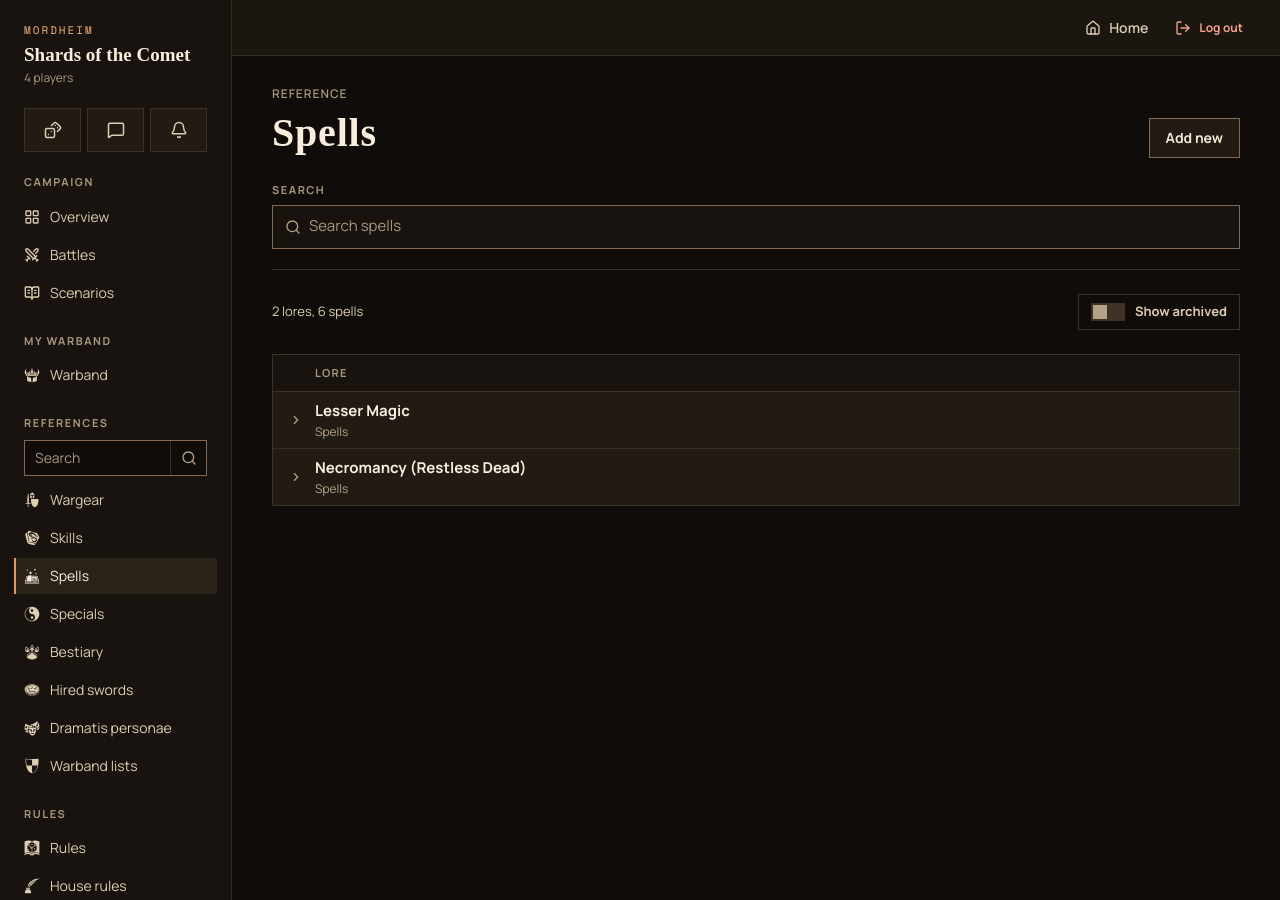
Scenario: The Spells page › searches names, lores and rules, keeping the lores with a match and their matches
In the search field labelled "Search spells": (768, 227) [309, 215, 1227, 238], type "fires"
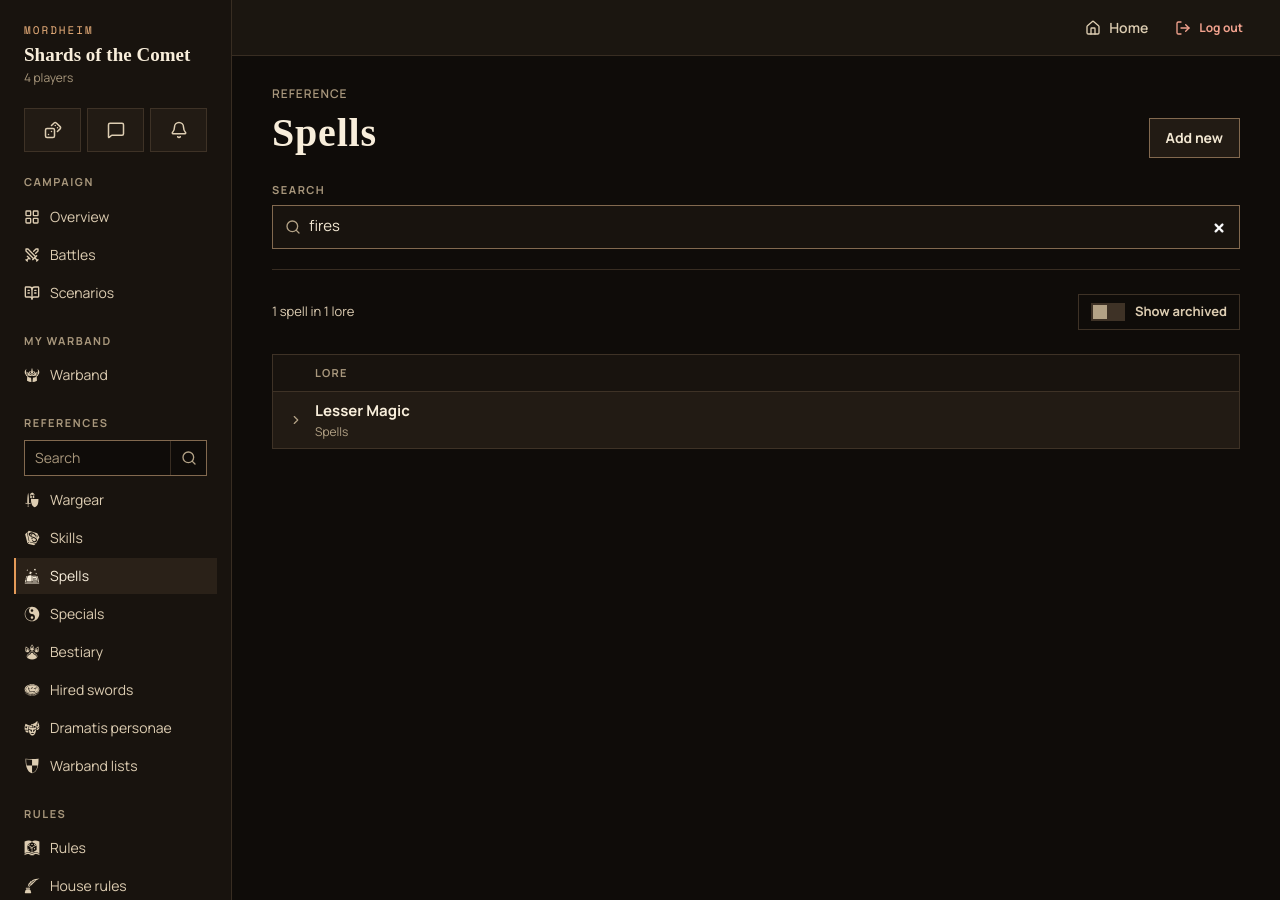
Result: the text "1 spell in 1 lore" is shown at [272, 302, 354, 321]
Click the button "Lesser Magic Spells": (362, 411) [273, 392, 1239, 448]
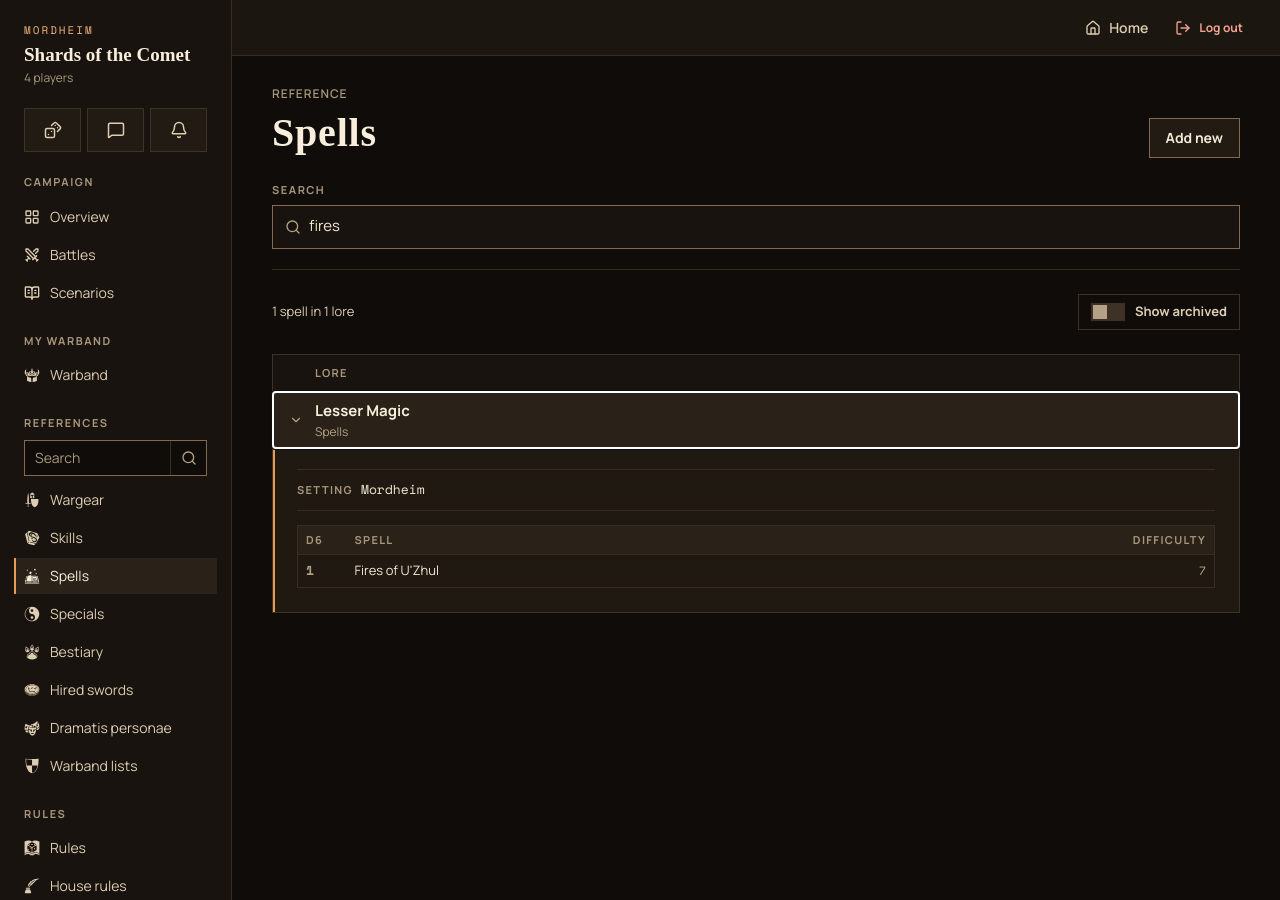
Replace the text in the search field named "Search spells" with "arrows of light": (768, 227) [309, 215, 1227, 238]
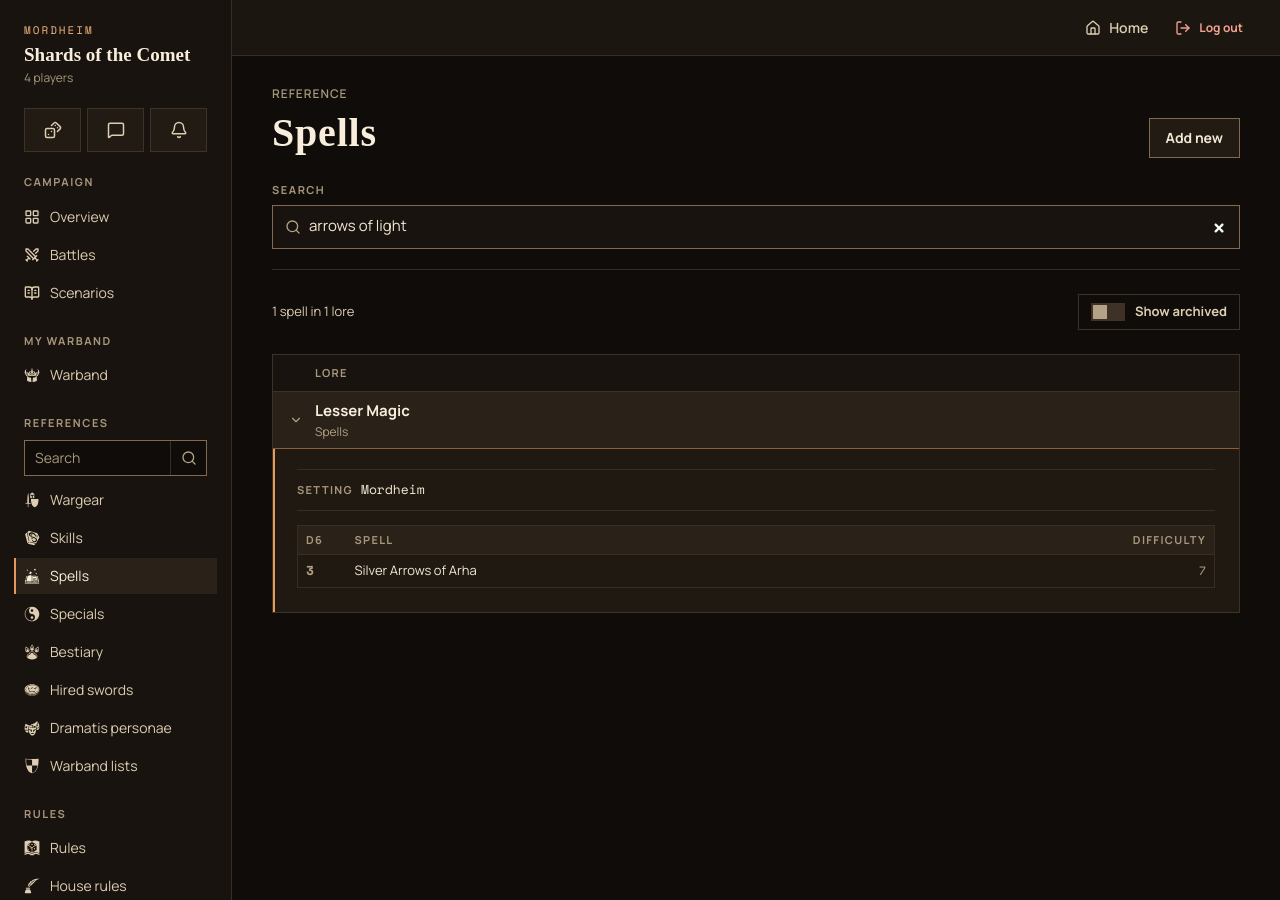
Replace the text in the search field named "Search spells" with "restless": (768, 227) [309, 215, 1227, 238]
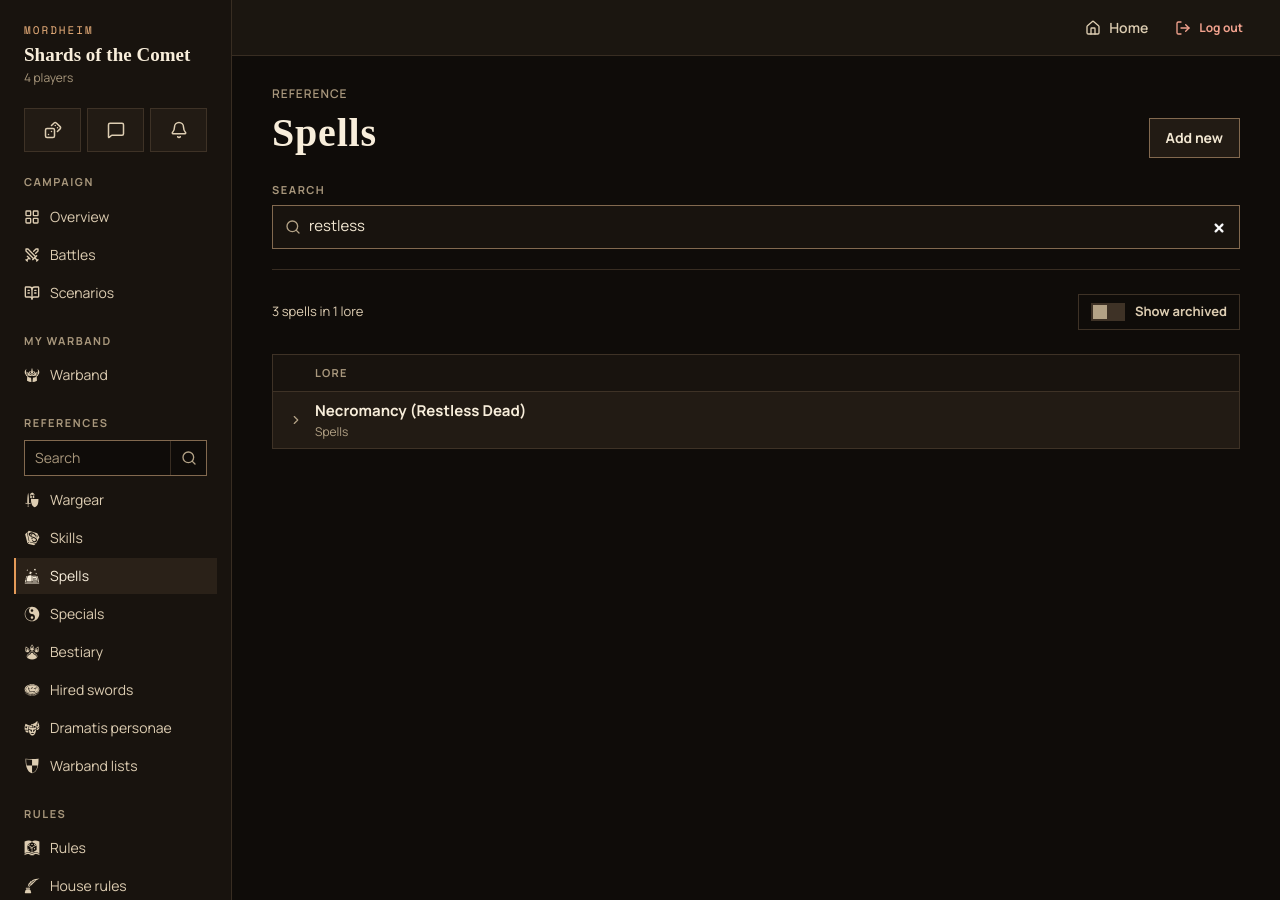
In the search field named "Search spells": (768, 227) [309, 215, 1227, 238], type " nothing"
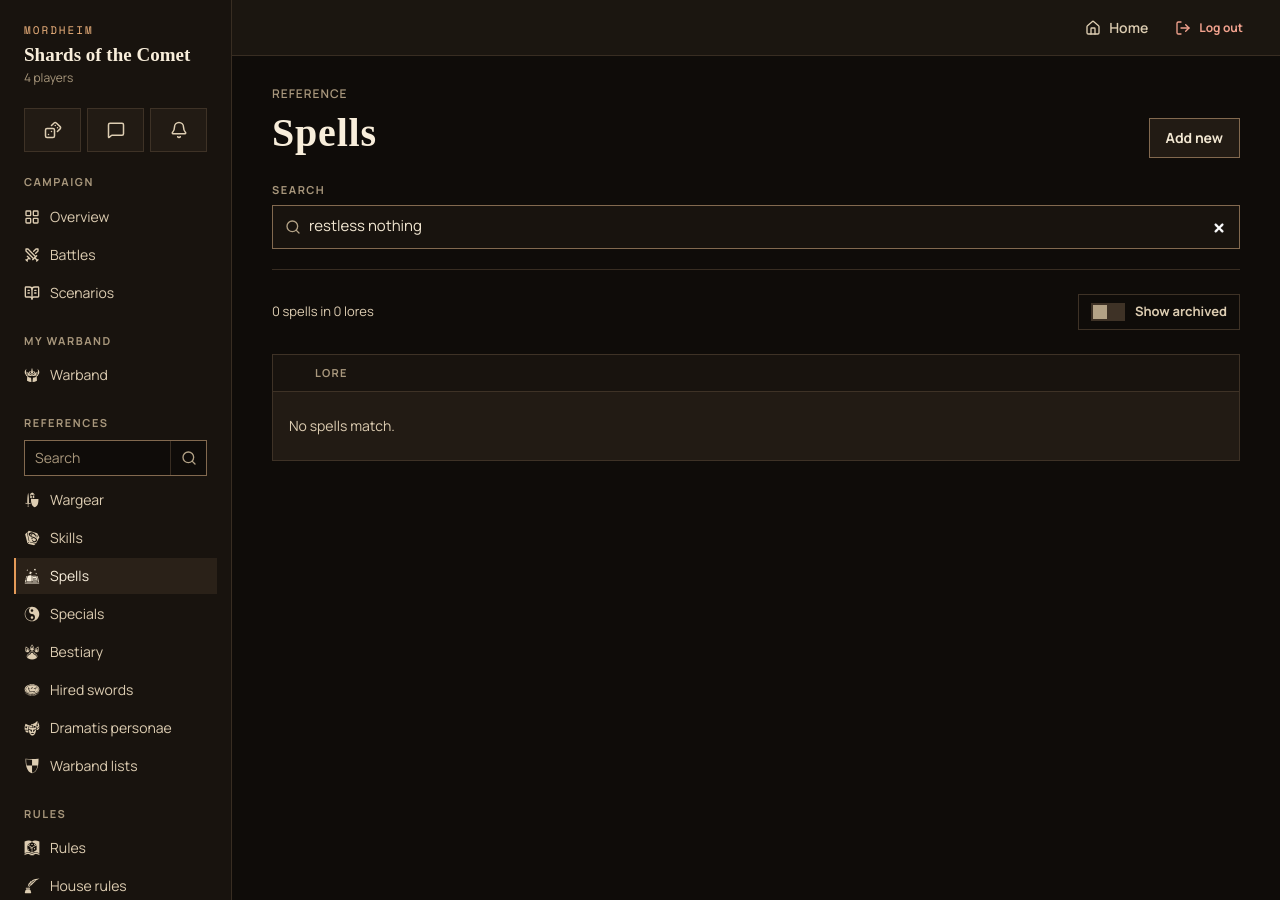
Result: the text "No spells match." is shown at [289, 416, 395, 435]
